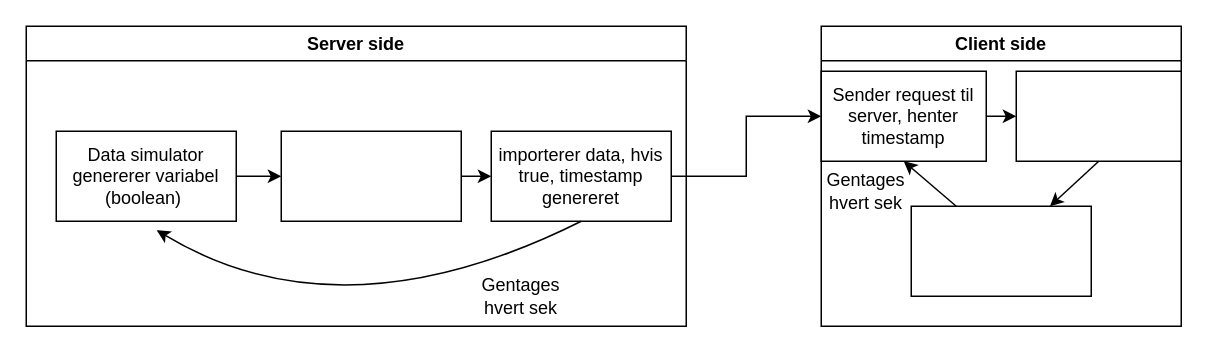
The diagram is 1208 pixels wide and 353 high, and some of its shapes have lost their labels. The centre of each missing label's shape, as x and y in pixels:
Sammenligner timestamp med nuværende unix time: pixel 1098 115
sender http request til server med data: pixel 370 175
Viser forskellen: pixel 1000 250
